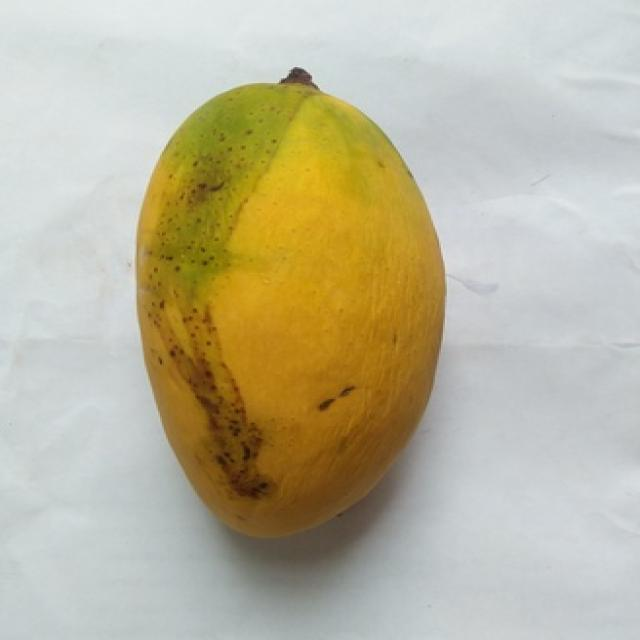Mango: (137, 69, 445, 536)
